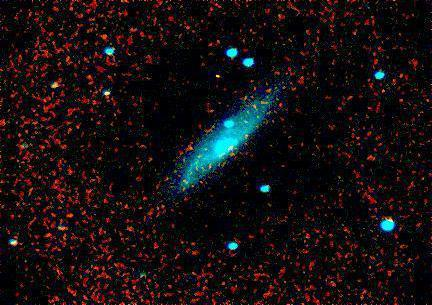star: (88, 22, 118, 52)
